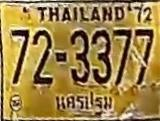2: (32, 29, 52, 84)
3: (91, 29, 110, 83), (70, 29, 89, 83)
7: (134, 28, 154, 84), (10, 29, 30, 82), (112, 28, 132, 81)
NPT: (53, 89, 114, 116)
